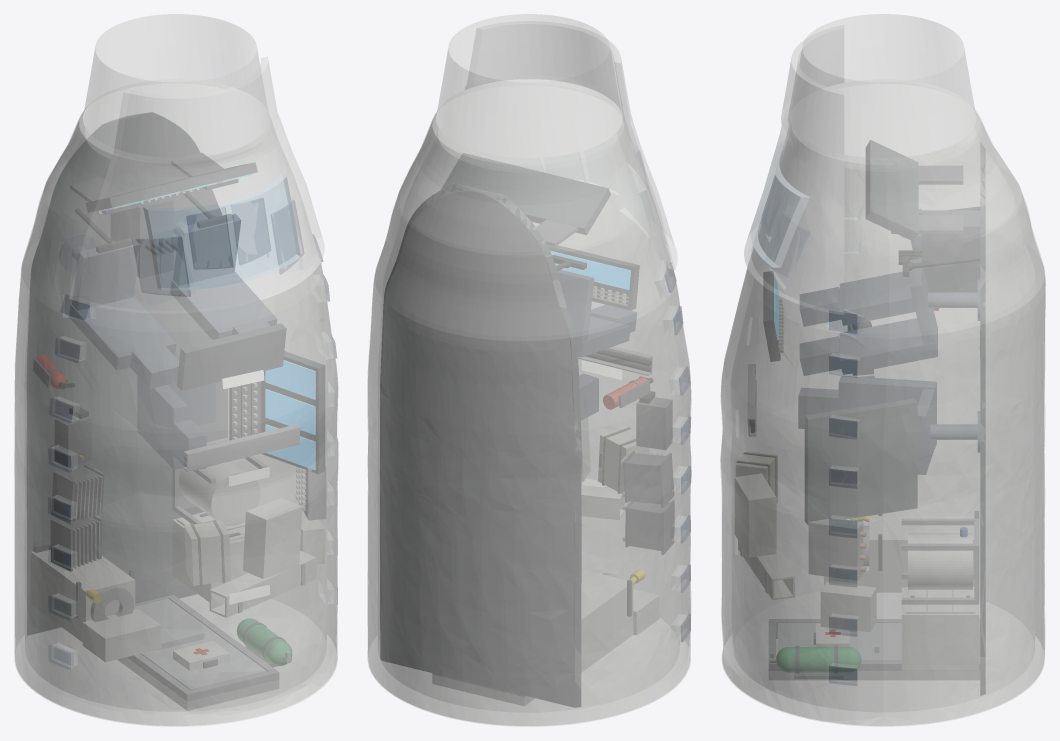
Rendered from cockpit04_inline_droop_cockpit_combined.glb.
The picture shows the model from 3 angles, left to right: view 1: azimuth 30°, elevation 25°; view 2: azimuth 150°, elevation 25°; view 3: azimuth 270°, elevation 25°; orthographic projection.
Visible parts, largest first — view 1: pressure_vessel, ext_fuselage, cabin_floor, ext_visor_frame, ext_nose_hinge_section, ext_visor_glass, ext_windows, seat_1, seat_2, seat_3, eq22_1_body, overhead_panel (+28 smaller); view 2: pressure_vessel, ext_fuselage, cabin_floor, ext_nose_hinge_section, ext_visor_frame, main_panel, eq22_1_body, seat_1, eq15_1_body, ext_windows, eq02_2_chassis, eq02_1_chassis (+13 smaller); view 3: pressure_vessel, ext_fuselage, ext_nose_hinge_section, ext_visor_frame, engineer_panel, seat_2, ext_windows, seat_3, eq21_1_body, seat_1, main_panel, ext_visor_glass (+19 smaller).
Part boxes in pixels (box(x1,y1,x2,y2)): pressure_vessel: box(14, 84, 337, 725); ext_fuselage: box(14, 79, 338, 726); cabin_floor: box(27, 112, 227, 635); ext_visor_frame: box(69, 57, 324, 313); ext_nose_hinge_section: box(83, 14, 268, 157); ext_visor_glass: box(143, 173, 300, 290); ext_windows: box(48, 198, 337, 669); seat_1: box(59, 233, 178, 388); seat_2: box(170, 208, 276, 339); seat_3: box(137, 376, 215, 469); eq22_1_body: box(31, 550, 134, 641); overhead_panel: box(177, 323, 286, 390); pressure_vessel: box(368, 86, 691, 725); ext_fuselage: box(367, 79, 691, 726); cabin_floor: box(380, 183, 582, 707); ext_nose_hinge_section: box(436, 14, 622, 157); ext_visor_frame: box(465, 21, 677, 269); main_panel: box(441, 153, 610, 234); eq22_1_body: box(581, 570, 632, 671); seat_1: box(557, 270, 636, 356); eq15_1_body: box(637, 397, 672, 449); ext_windows: box(664, 263, 691, 641); eq02_2_chassis: box(626, 453, 665, 503); eq02_1_chassis: box(628, 502, 668, 550); pressure_vessel: box(721, 84, 1045, 725); ext_fuselage: box(720, 79, 1044, 726); ext_nose_hinge_section: box(790, 14, 976, 157); ext_visor_frame: box(744, 25, 843, 314); engineer_panel: box(805, 399, 917, 524); seat_2: box(800, 258, 979, 375); ext_windows: box(761, 176, 856, 685); seat_3: box(798, 376, 979, 474); eq21_1_body: box(902, 588, 978, 670); seat_1: box(800, 209, 921, 326); main_panel: box(866, 140, 918, 241); ext_visor_glass: box(751, 140, 809, 267).
Bounding box in the file's own units: 2.52 × 5.2 × 2.51.
